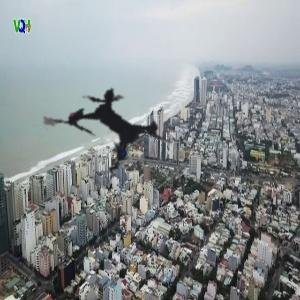drone: (15, 32, 208, 225)
